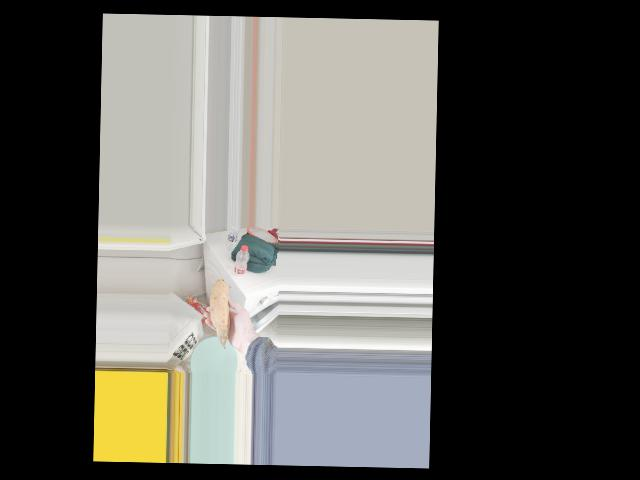sweet_potato: (209, 278, 232, 346)
